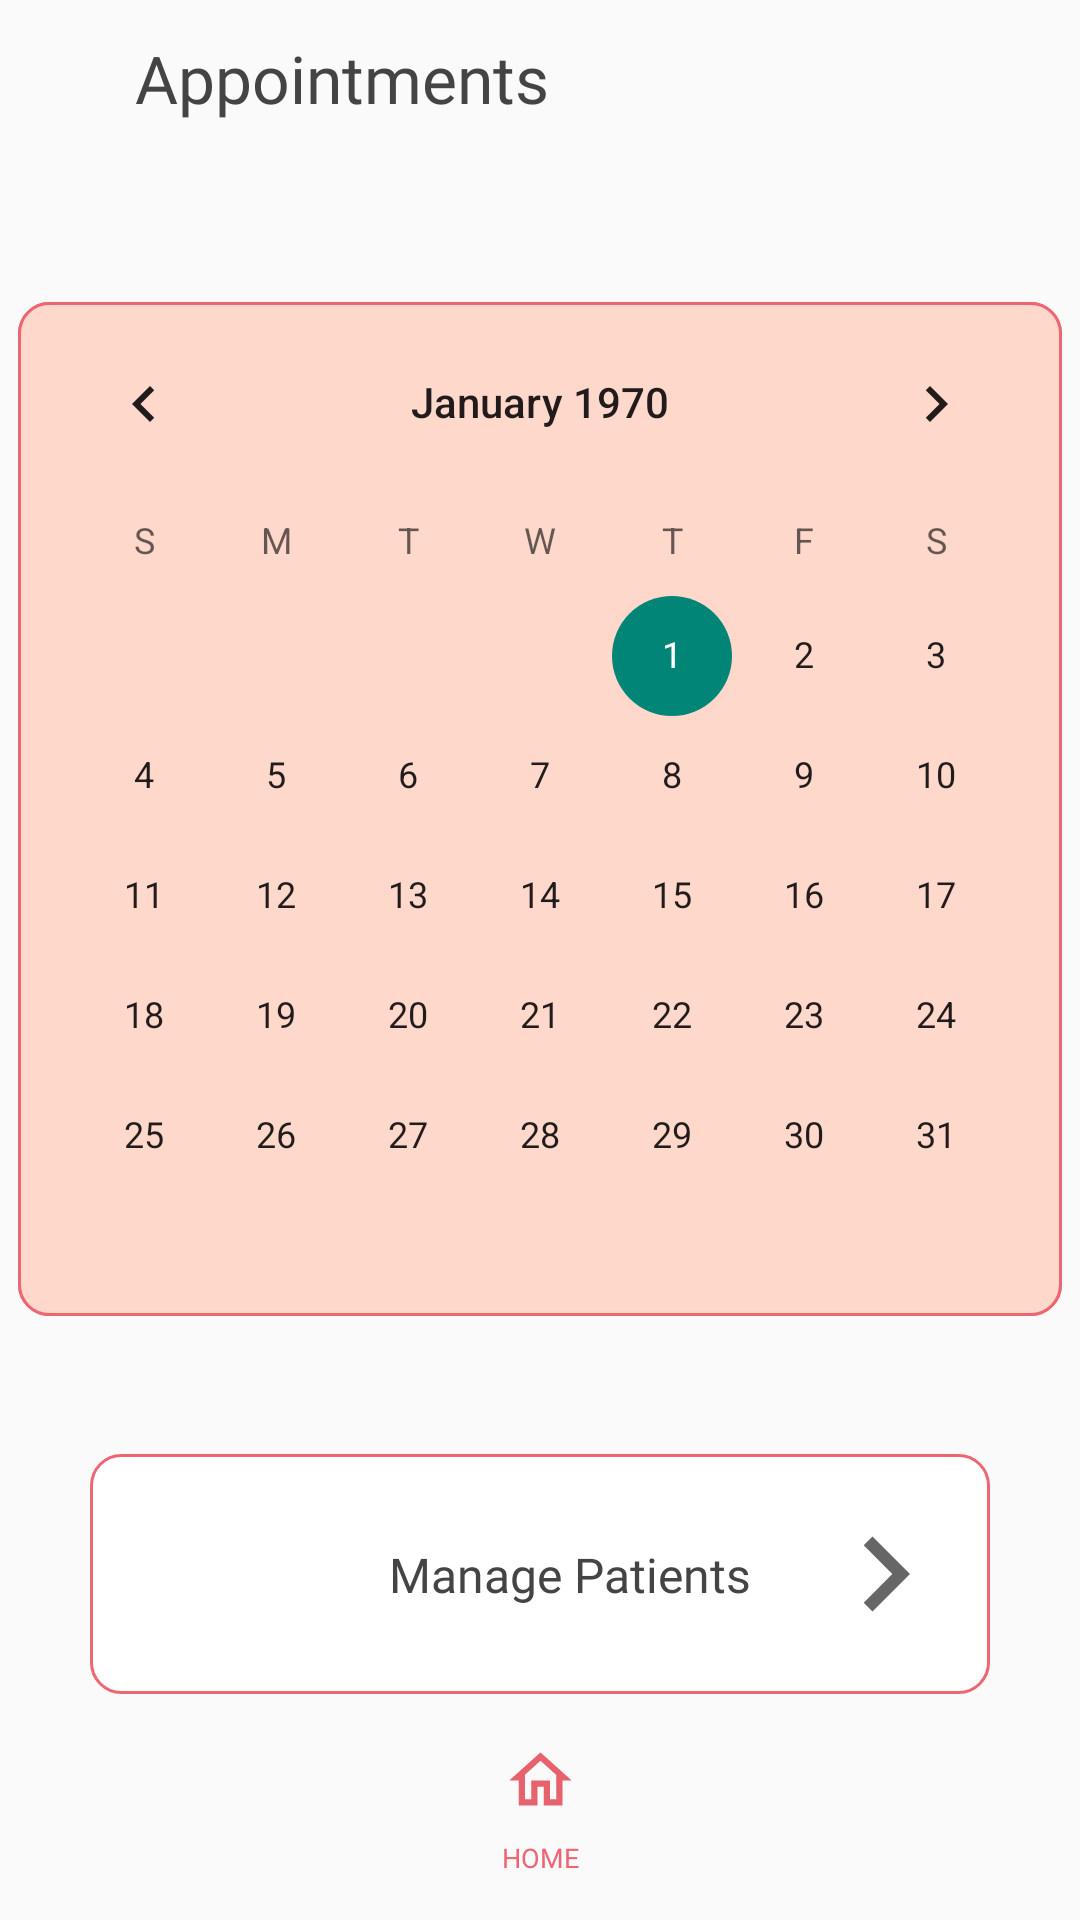

Screen size 1080px x 1920px. Icon name, then its box in pixels as (x1, y1, x2, y2):
navigate next: (864, 1536, 910, 1612)
